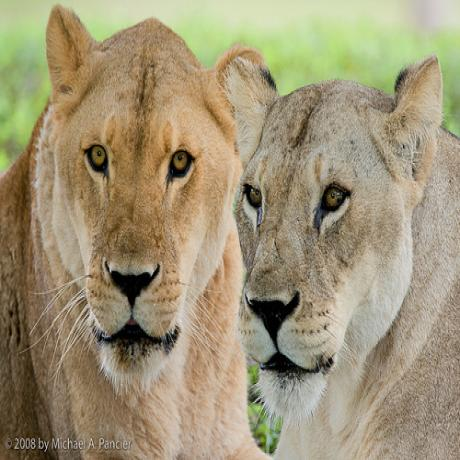Lion: (0, 0, 247, 460), (227, 52, 460, 459)
